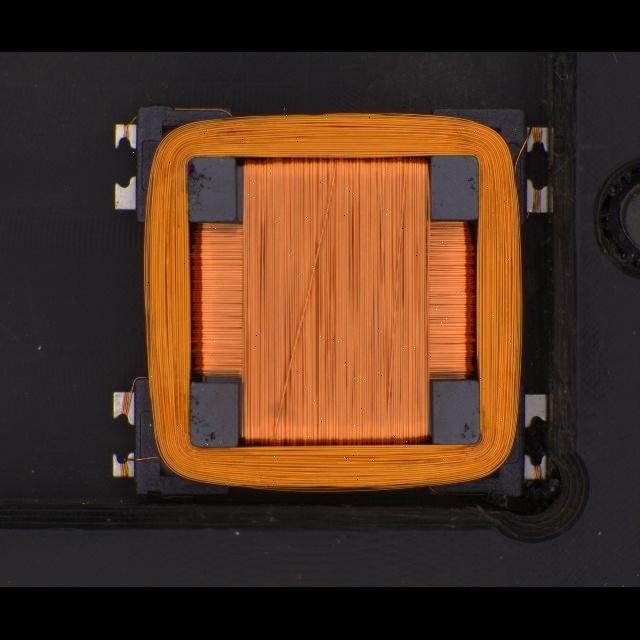Winding_Z: (132, 107, 527, 494)
